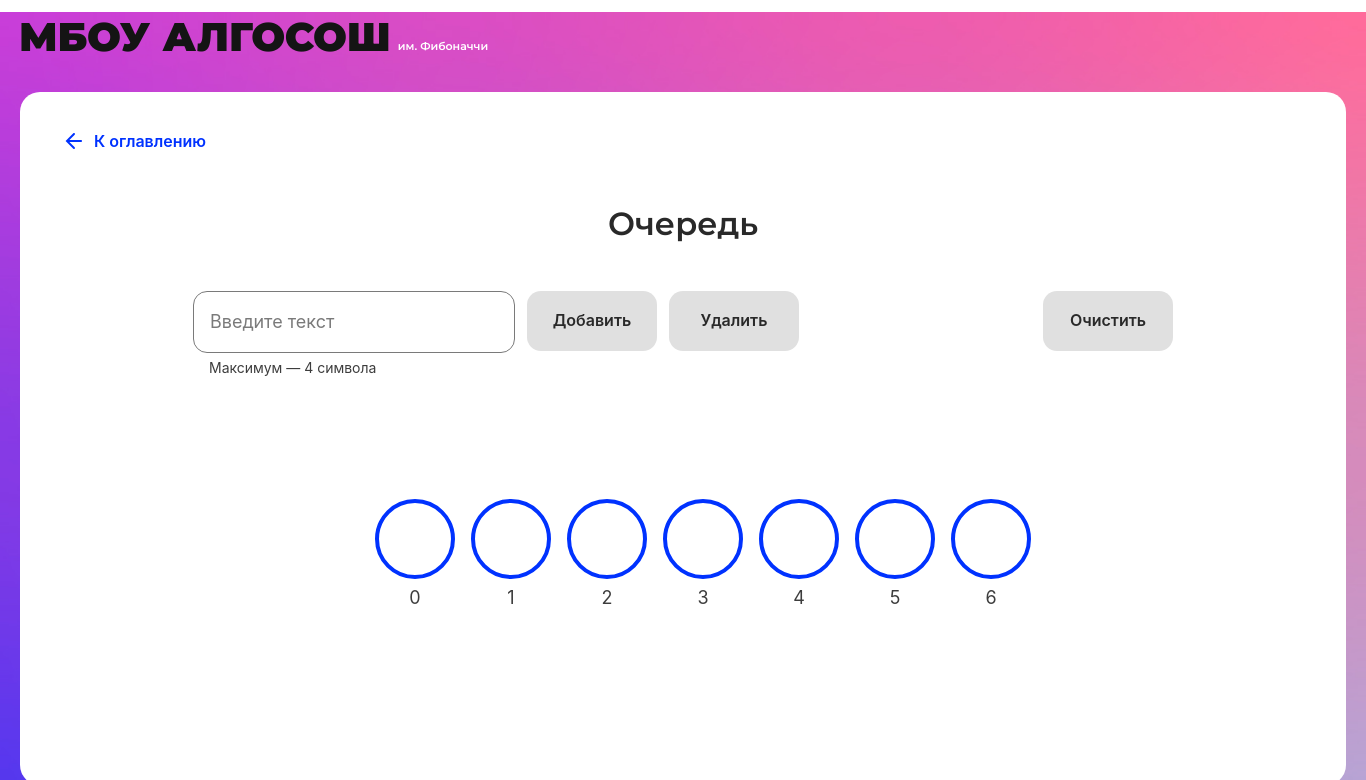
Test: Queue component functions properly › adding an element to Queue works correctly
Type "1" into the field with placeholder "Введите текст" at (354, 322), box [193, 291, 515, 353]
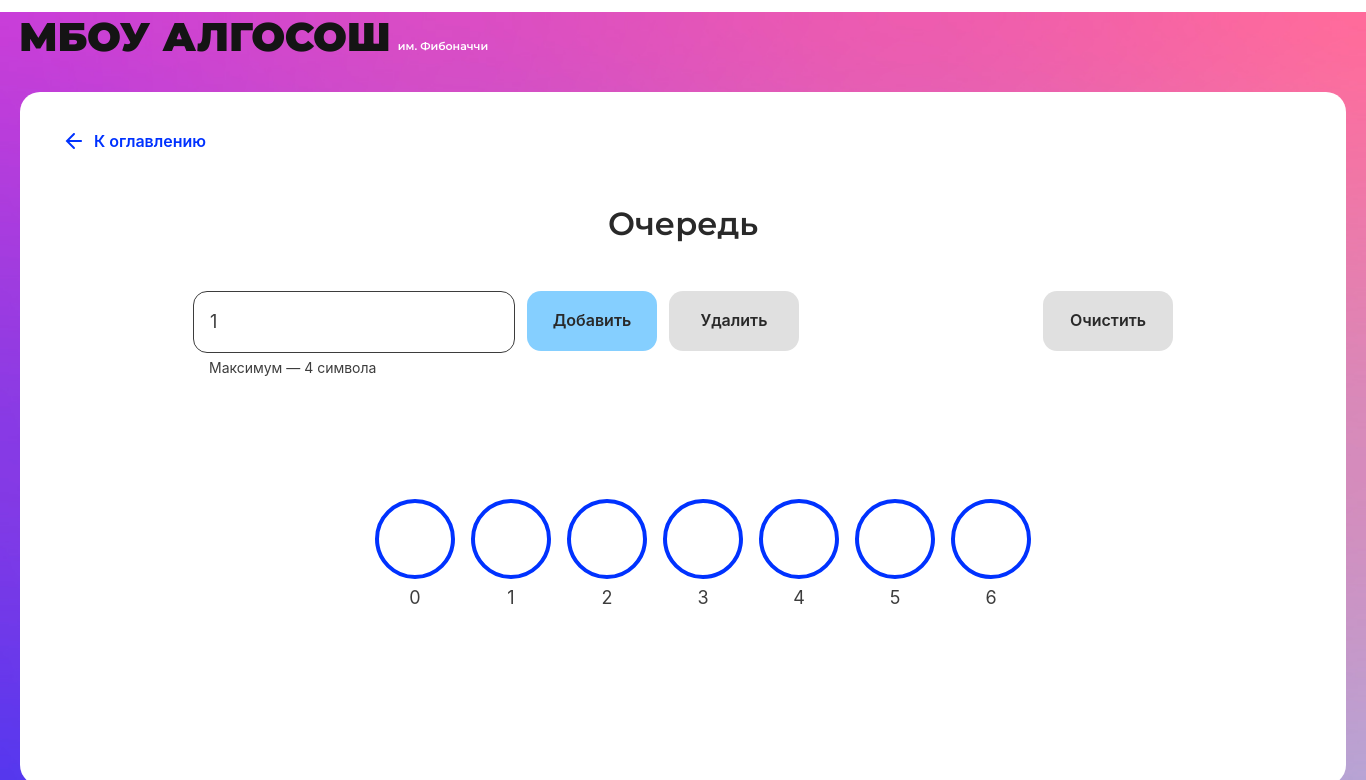
Click the button "Добавить" at (592, 321), box [527, 291, 657, 351]
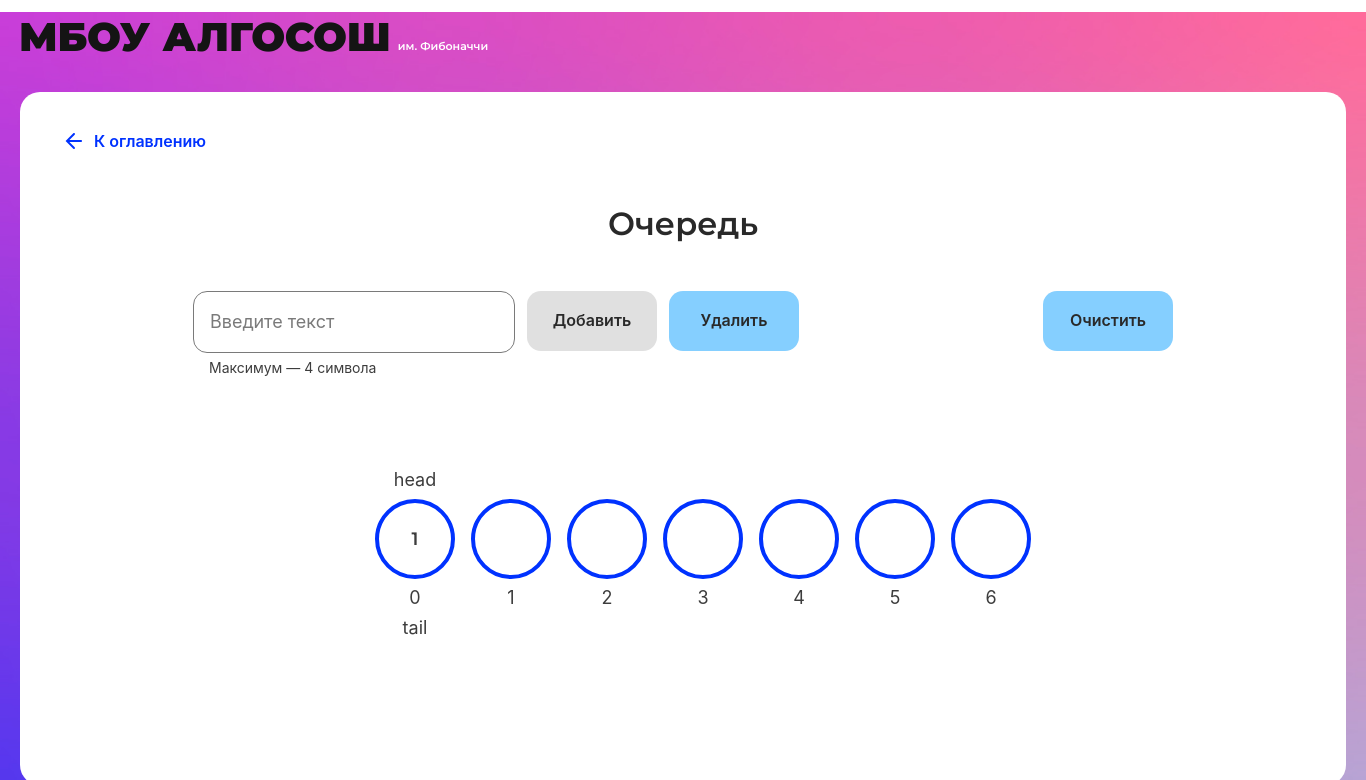
Check: the text "1" below "head" is shown, box [412, 528, 419, 550]
Check: the text "head" is shown, box [394, 469, 436, 491]
Check: the text "tail" is shown, box [403, 617, 427, 639]
Type "2" into the field with placeholder "Введите текст" at (354, 322), box [193, 291, 515, 353]
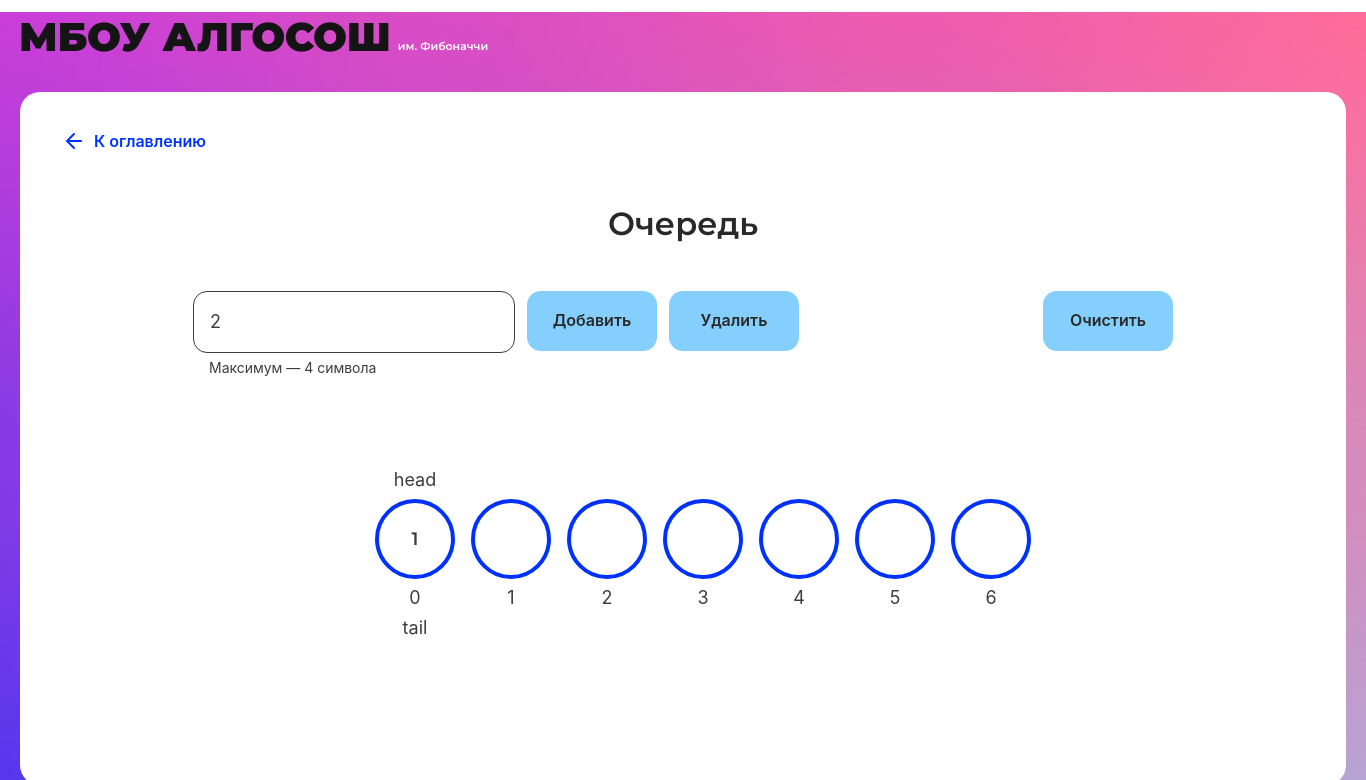
Click the button "Добавить" at (592, 321), box [527, 291, 657, 351]
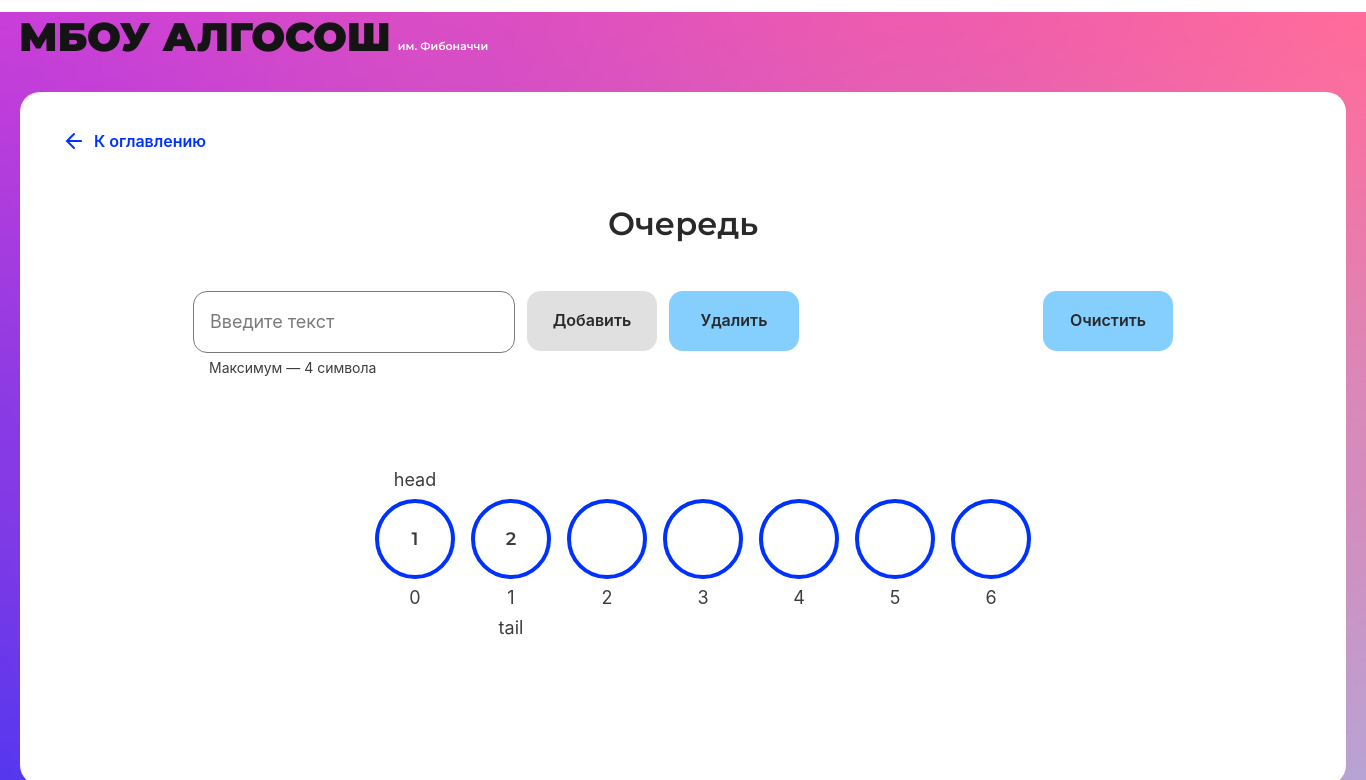
Check: the text "head" is shown, box [394, 469, 436, 491]
Check: the text "tail" is shown, box [499, 617, 523, 639]
Check: the 1st text "2" is shown, box [506, 528, 516, 550]
Type "3" into the field with placeholder "Введите текст" at (354, 322), box [193, 291, 515, 353]
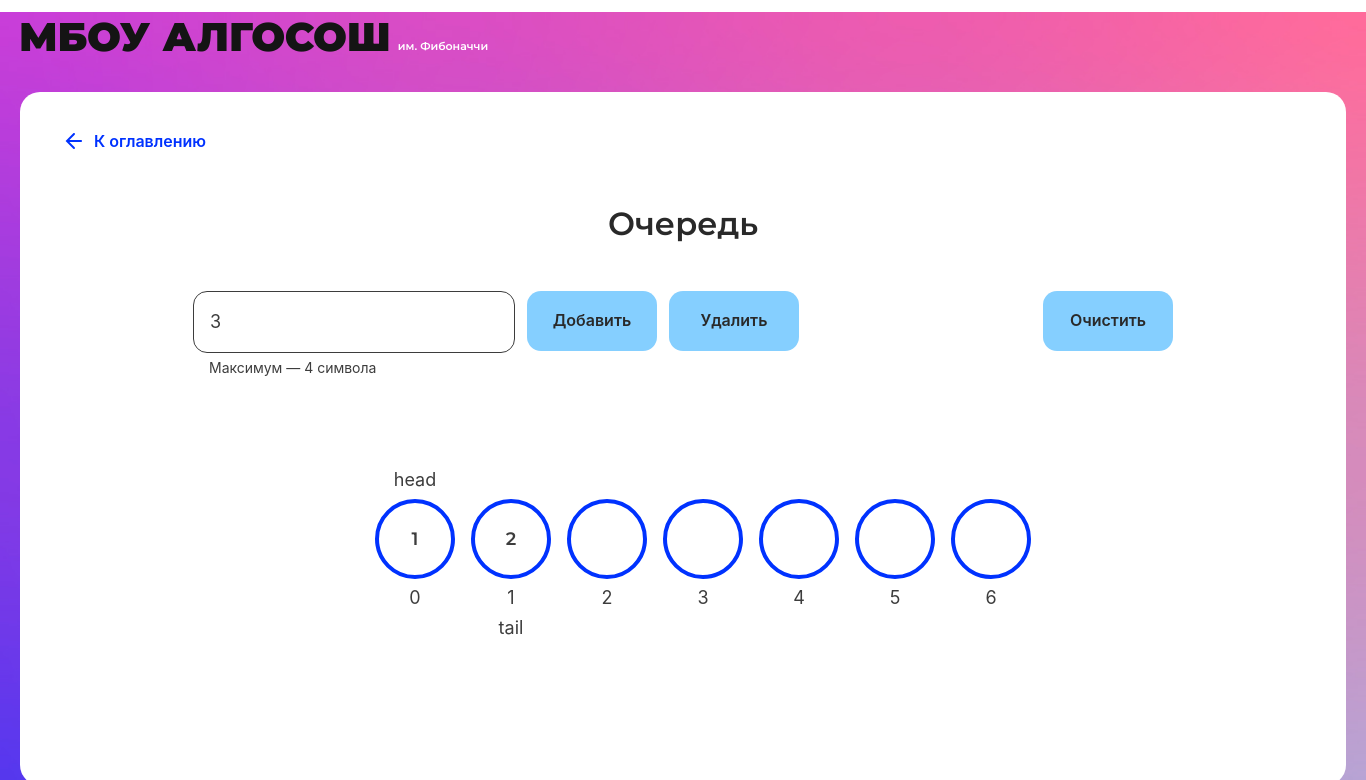
Click the button "Добавить" at (592, 321), box [527, 291, 657, 351]
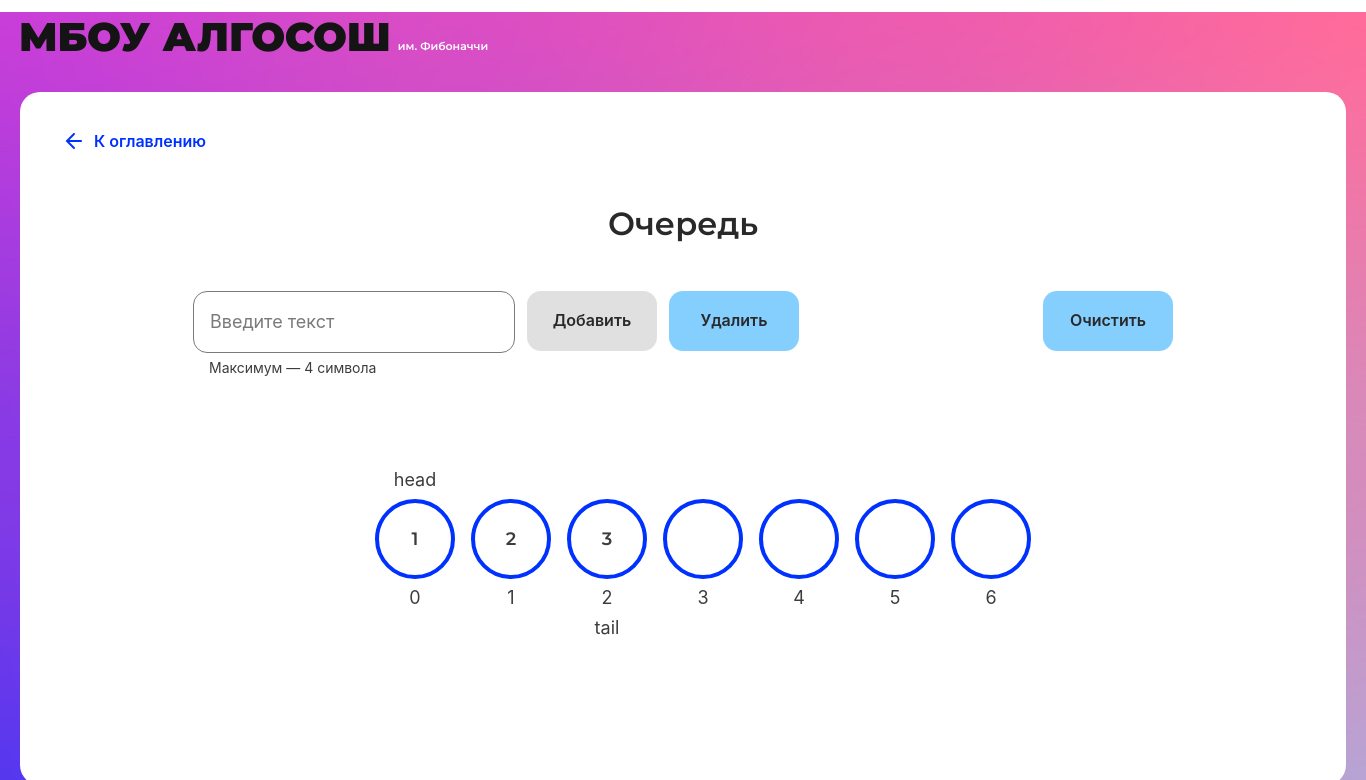
Check: the text "head" is shown, box [394, 469, 436, 491]
Check: the text "tail" is shown, box [595, 617, 619, 639]
Check: the 1st text "3" is shown, box [602, 528, 612, 550]
